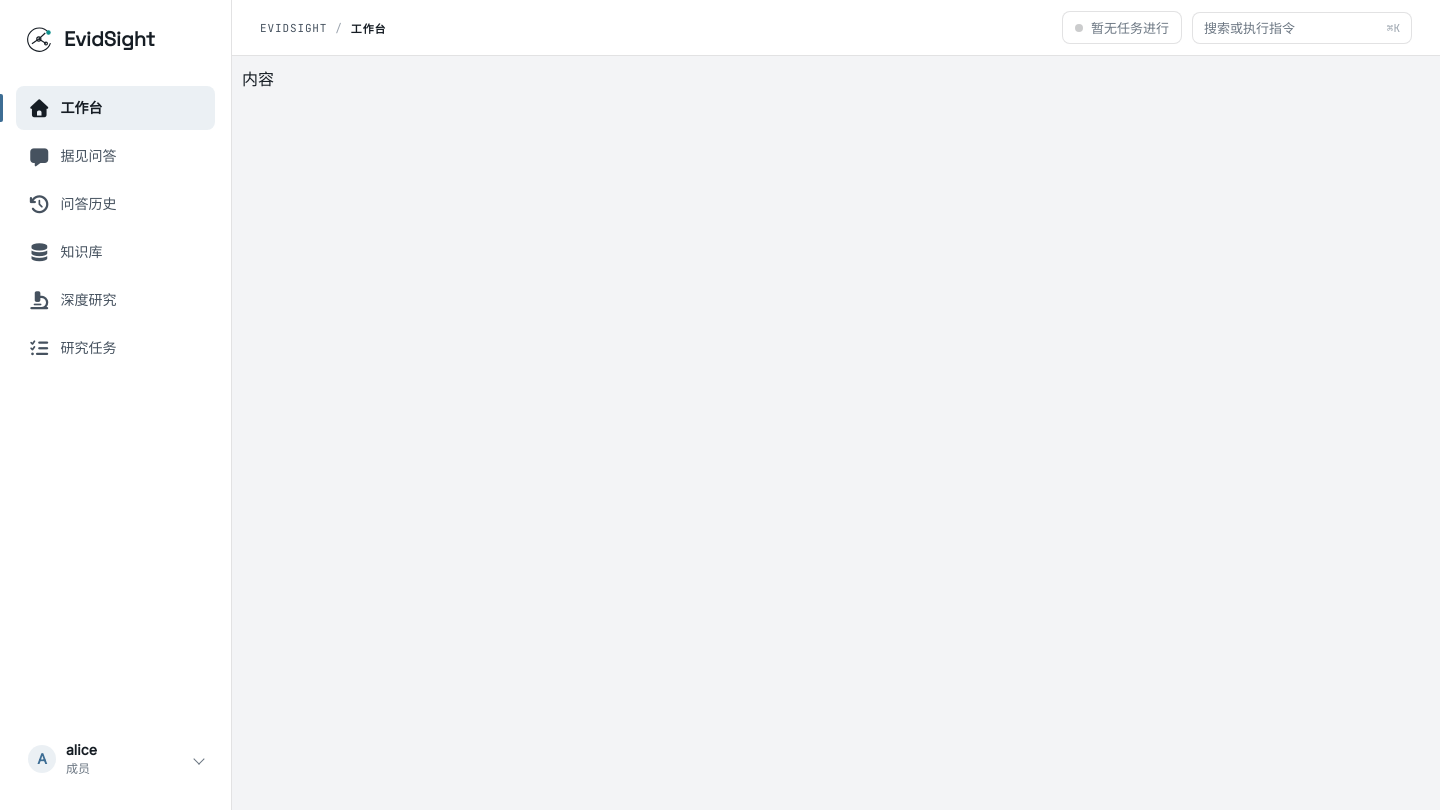
Test: 统一应用壳层 › 账号菜单「修改密码」打开右侧抽屉（FRONTEND §3.2）
Click the button "A alice 成员". click: (116, 758)
box: [16, 731, 215, 786]
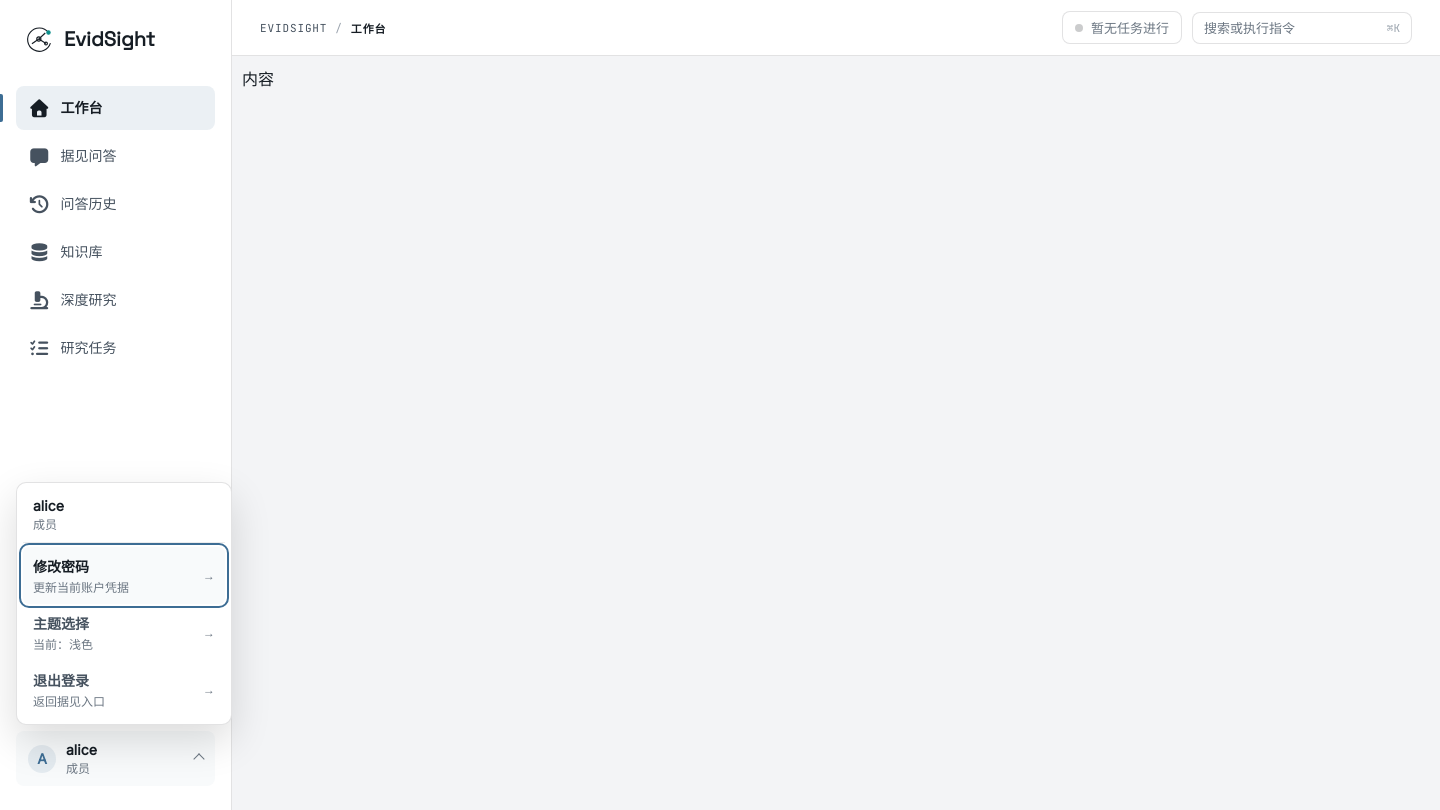
Click the menu item "修改密码 更新当前账户凭据 →". click: (124, 576)
box: [23, 547, 225, 604]
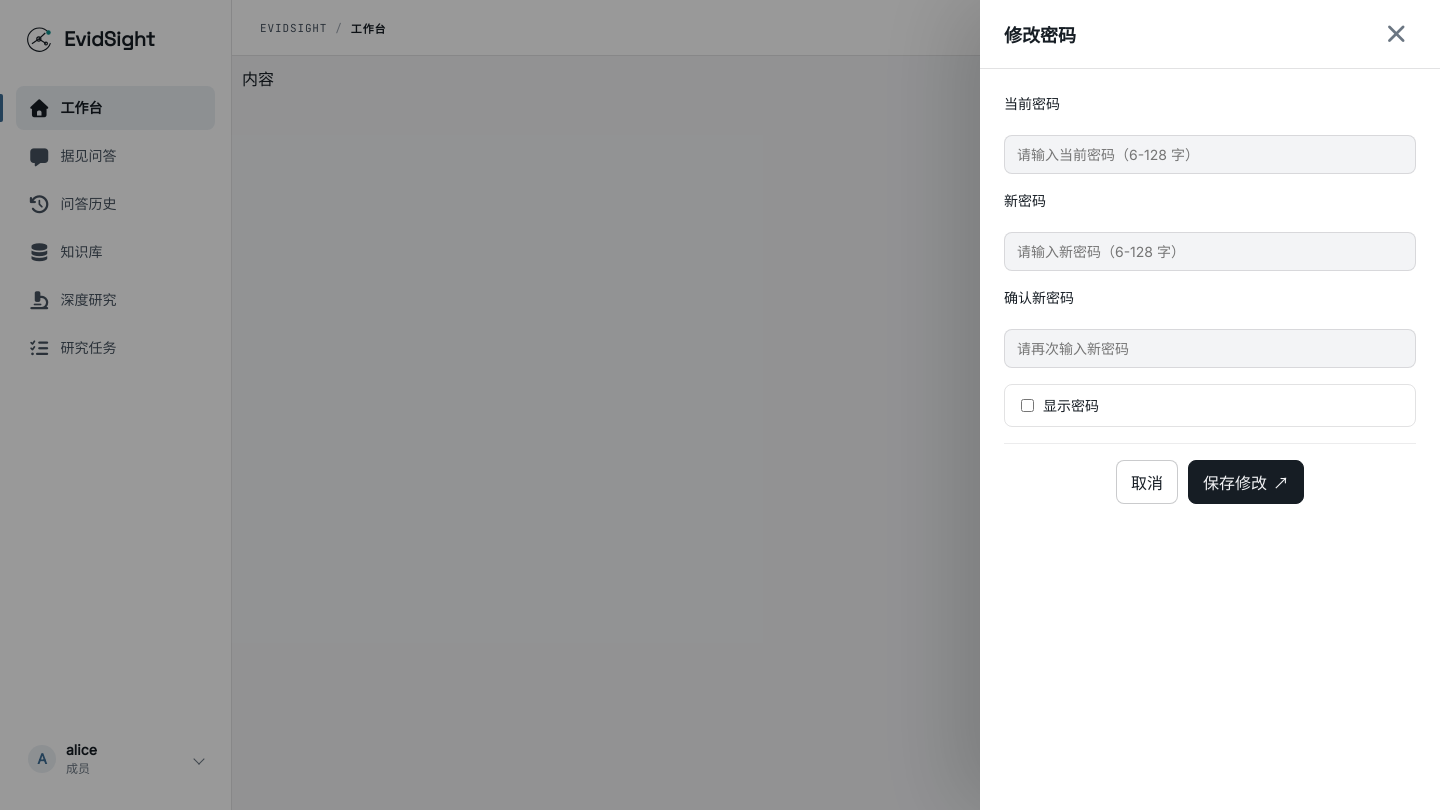
Expected: the dialog "修改密码" is shown, [980, 0, 1439, 809]
Expected: the password field labelled "当前密码" is shown, [1004, 135, 1416, 174]
